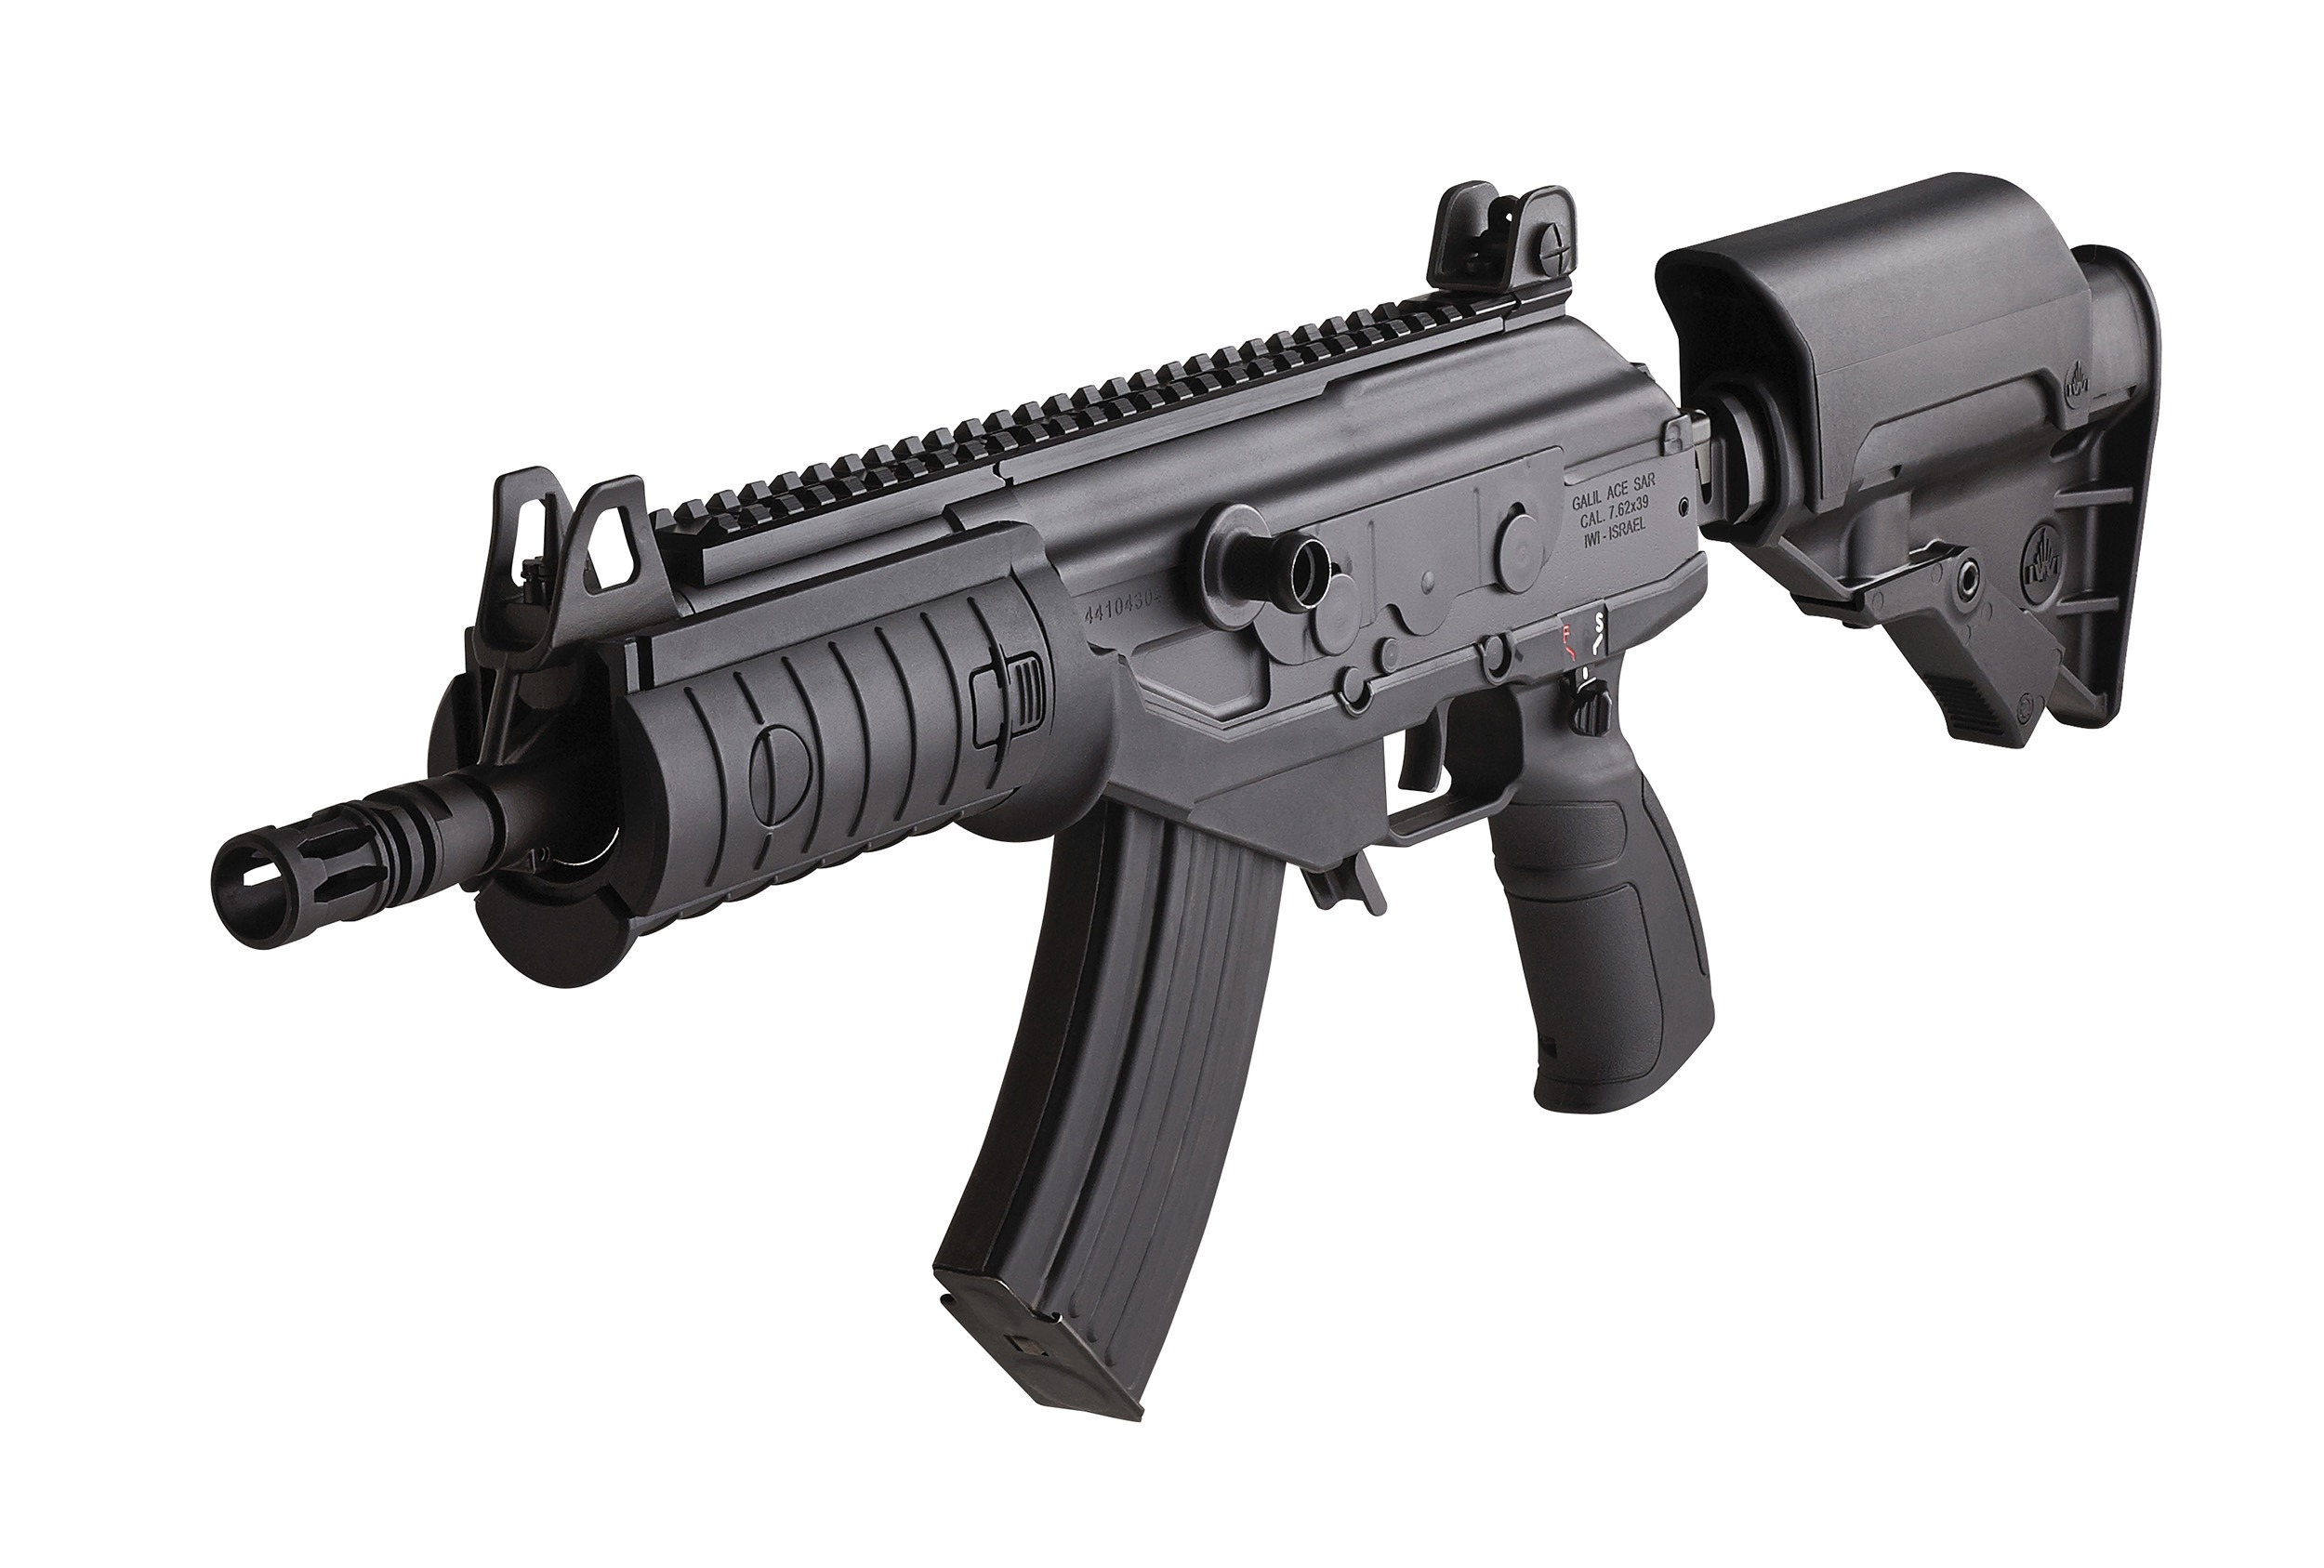Arma Real: (187, 147, 2172, 1431)
